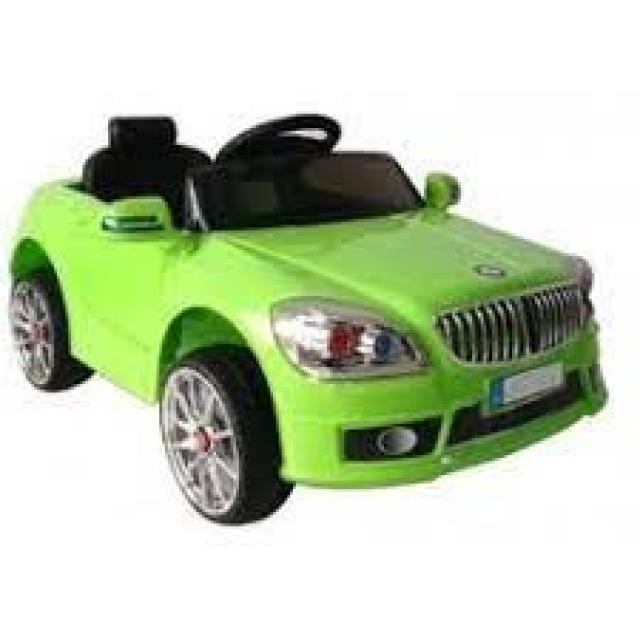Car: (6, 111, 608, 523)
